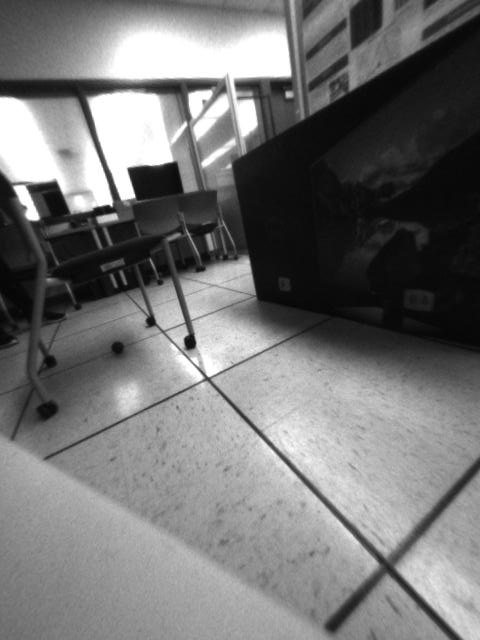dogtoy: (101, 334, 134, 358)
